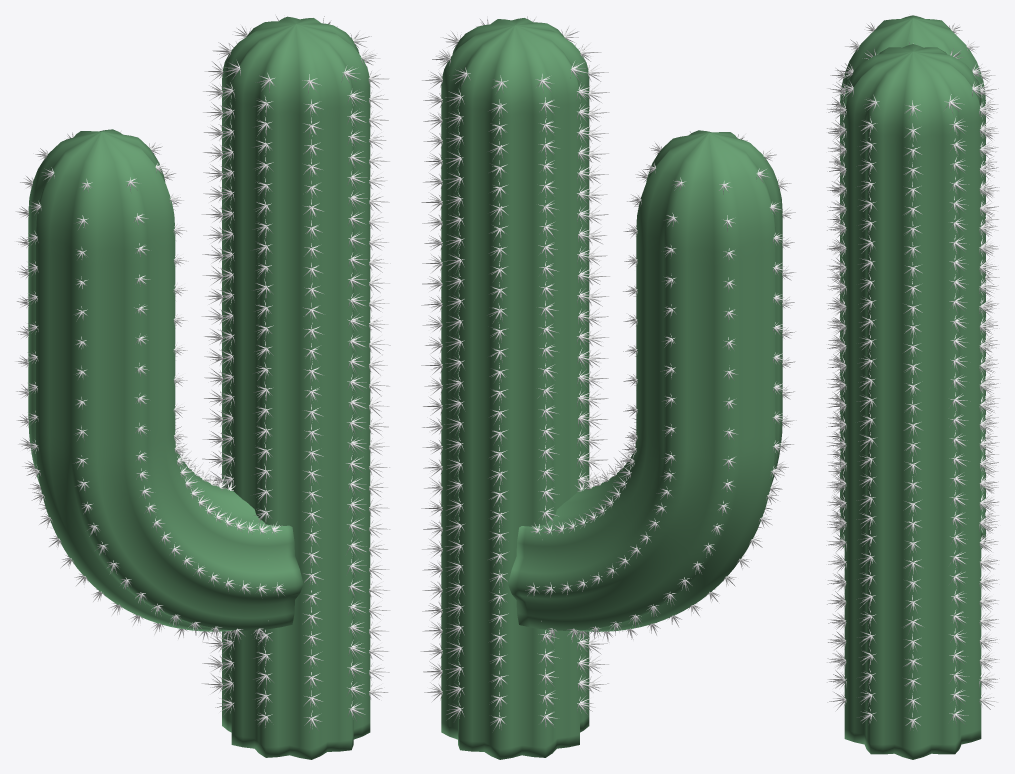
3 renders of one model, left to right at view 1: azimuth 30°, elevation 25°; view 2: azimuth 150°, elevation 25°; view 3: azimuth 270°, elevation 25°, orthographic. The views are drawn at different scales.
Parts seen in each view (by area): view 1: main_stem, side_arm, stem_spine_clusters, arm_spine_clusters; view 2: main_stem, side_arm, stem_spine_clusters, arm_spine_clusters; view 3: main_stem, stem_spine_clusters, side_arm, arm_spine_clusters.
Boxes of the visible parts, left/top/right/bottom form: main_stem: left=222, top=16, right=370, bottom=759; side_arm: left=28, top=129, right=303, bottom=631; stem_spine_clusters: left=201, top=16, right=390, bottom=732; arm_spine_clusters: left=15, top=132, right=285, bottom=642; main_stem: left=441, top=18, right=589, bottom=759; side_arm: left=508, top=130, right=782, bottom=631; stem_spine_clusters: left=420, top=16, right=609, bottom=730; arm_spine_clusters: left=525, top=131, right=796, bottom=642; main_stem: left=844, top=44, right=981, bottom=759; stem_spine_clusters: left=826, top=42, right=999, bottom=731; side_arm: left=840, top=15, right=985, bottom=548; arm_spine_clusters: left=826, top=15, right=999, bottom=533.
Size of the model in its own units: 1.32 by 2.5 by 0.587.
